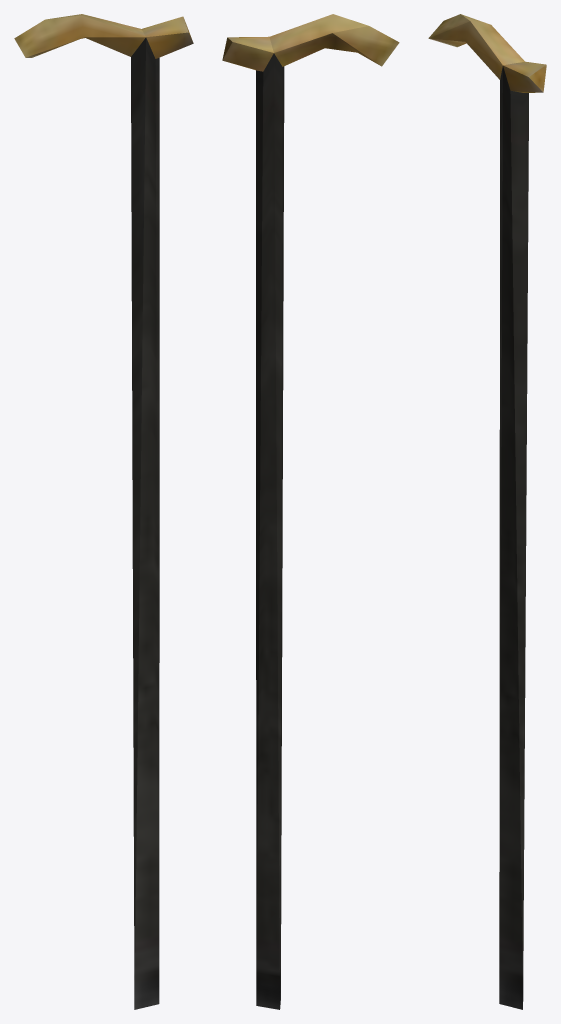
Rendered from cane.lod1.glb.
3 views of the same model, side by side, from view 1: azimuth 30°, elevation 25°; view 2: azimuth 210°, elevation 25°; view 3: azimuth 330°, elevation 25° (orthographic). The views are drawn at different scales.
Visible parts, largest first — view 1: cane; view 2: cane; view 3: cane.
Part boxes in pixels (x1,y1,x2,y2): cane: (14,14,193,1009); cane: (222,14,399,1009); cane: (428,14,546,1009).
Bounding box in the file's own units: 0.1266 × 0.839 × 0.0661.
1 material, 1 textured.
